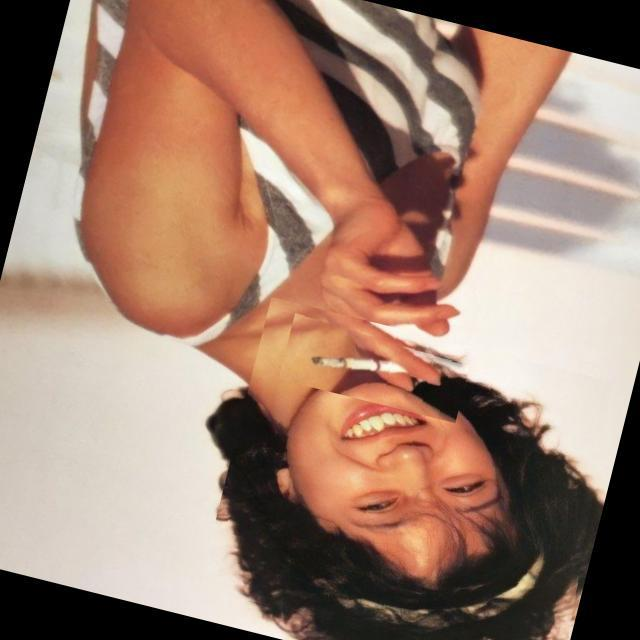cigarette: (278, 314, 472, 423)
